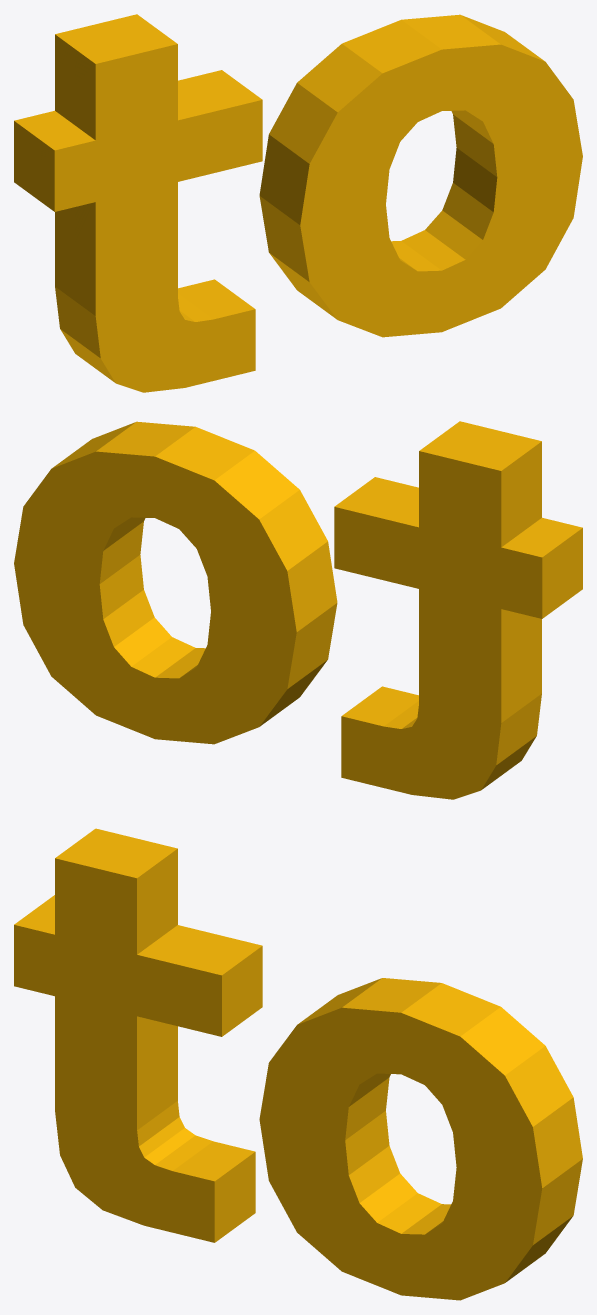
The model's file is suku_kecil_to.glb.
3 views of the same model, one above another, from view 1: azimuth 30°, elevation 25°; view 2: azimuth 150°, elevation 25°; view 3: azimuth 330°, elevation 25° (orthographic).
Visible parts, largest first — view 1: geometry_0; view 2: geometry_0; view 3: geometry_0.
Boxes of the visible parts, bbox=[...] form: geometry_0: bbox=[14, 14, 582, 392]; geometry_0: bbox=[14, 421, 582, 799]; geometry_0: bbox=[14, 828, 582, 1300].
Size of the model in its own units: 11.23 by 7.16 by 1.5.
